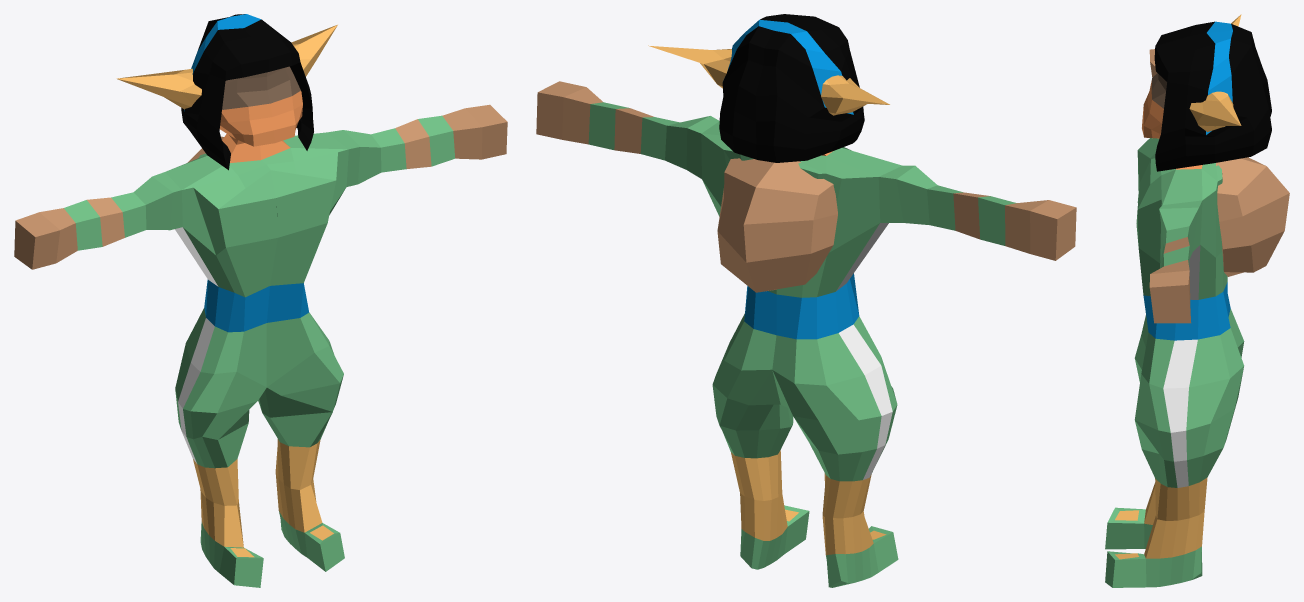
The model's file is Elven.fbx.
The picture shows the model from 3 angles, left to right: view 1: azimuth 30°, elevation 25°; view 2: azimuth 150°, elevation 25°; view 3: azimuth 270°, elevation 25°; orthographic projection. The views are drawn at different scales.
Parts seen in each view (by area): view 1: Body, Hair; view 2: Body, Hair, Backpack; view 3: Body, Hair, Backpack.
Part boxes in pixels (x1,y1,x2,y2): Body: (14, 24, 507, 587); Hair: (181, 14, 313, 170); Body: (536, 45, 1076, 587); Hair: (719, 14, 864, 162); Backpack: (717, 158, 837, 292); Body: (1105, 14, 1244, 587); Hair: (1154, 21, 1271, 171); Backpack: (1216, 157, 1289, 276).
Bounding box in the file's own units: 1375 × 1435 × 449.
